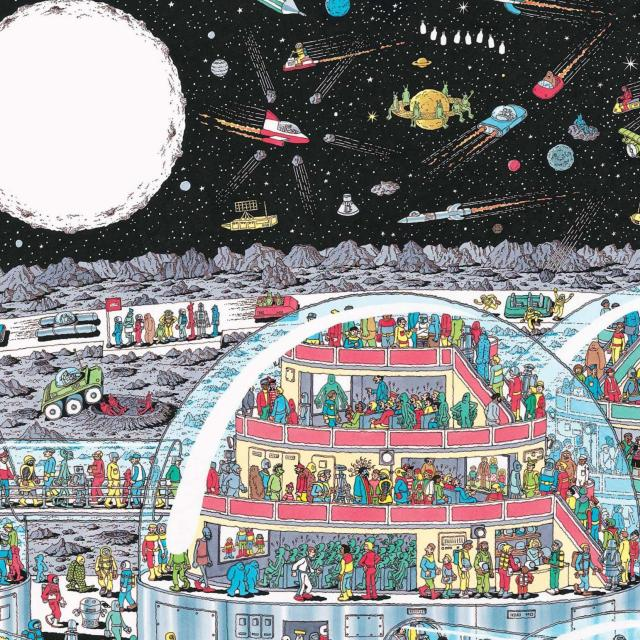waldo: (402, 465, 413, 477)
